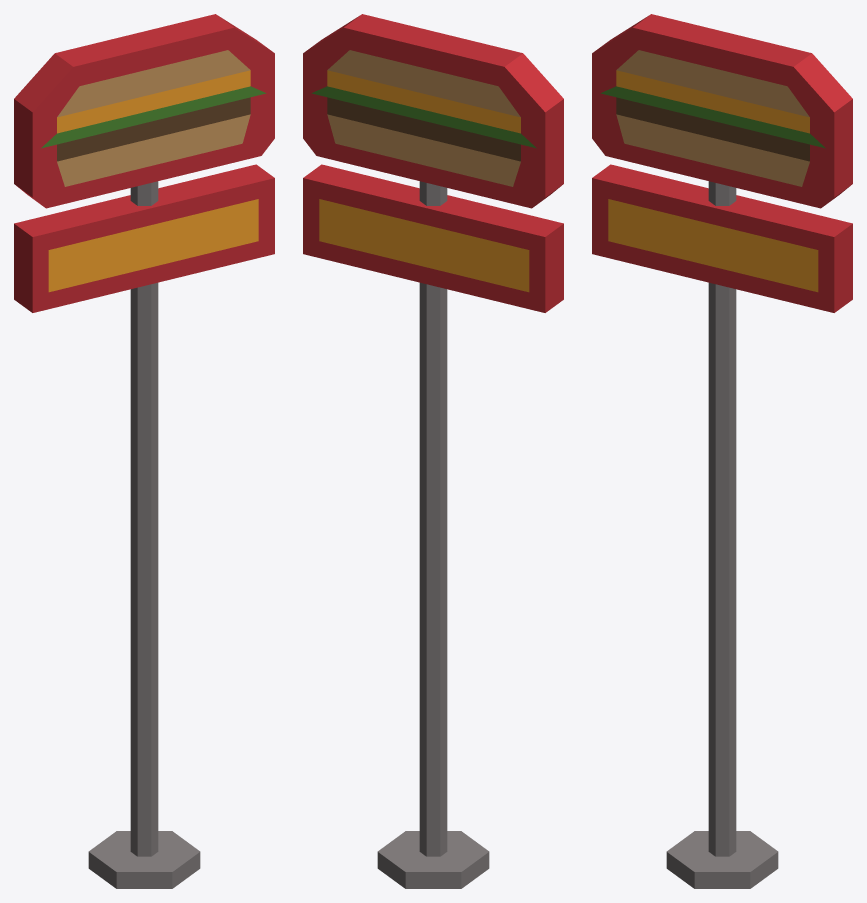
File: props_burger-joint-sign.fbx
The picture shows the model from 3 angles, left to right: view 1: azimuth 30°, elevation 25°; view 2: azimuth 150°, elevation 25°; view 3: azimuth 330°, elevation 25°; orthographic projection.
Visible parts, largest first — view 1: props_burger_joint_sign; view 2: props_burger_joint_sign; view 3: props_burger_joint_sign.
Boxes of the visible parts, x1,y1,x2,y2 form: props_burger_joint_sign: (14, 14, 274, 888); props_burger_joint_sign: (303, 14, 563, 888); props_burger_joint_sign: (592, 14, 852, 888).
Bounding box in the file's own units: 61.24 × 200 × 24.49.
